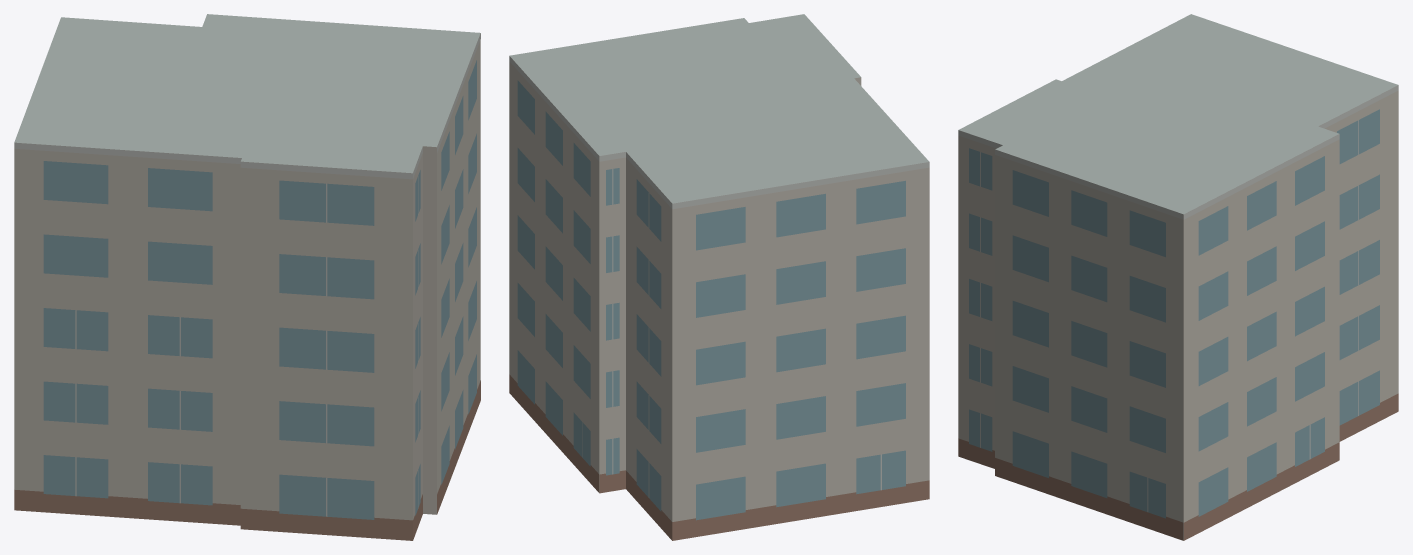
File: survey-upis-32998304.glb
3 views of the same model, side by side, from view 1: azimuth 30°, elevation 25°; view 2: azimuth 150°, elevation 25°; view 3: azimuth 270°, elevation 25° (orthographic). The views are drawn at different scales.
Parts seen in each view (by area): view 1: survey-upis-32998304.tmp; view 2: survey-upis-32998304.tmp; view 3: survey-upis-32998304.tmp.
Boxes of the visible parts, left/top/right/bottom form: survey-upis-32998304.tmp: left=14, top=14, right=480, bottom=540; survey-upis-32998304.tmp: left=509, top=14, right=929, bottom=540; survey-upis-32998304.tmp: left=958, top=14, right=1398, bottom=540.
Size of the model in its own units: 19.23 by 14.6 by 17.85.
